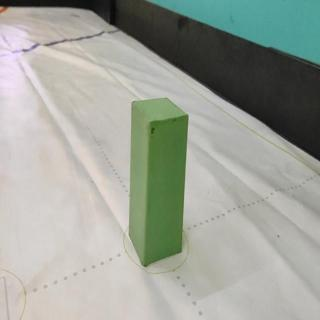greenbox: (128, 93, 190, 267)
